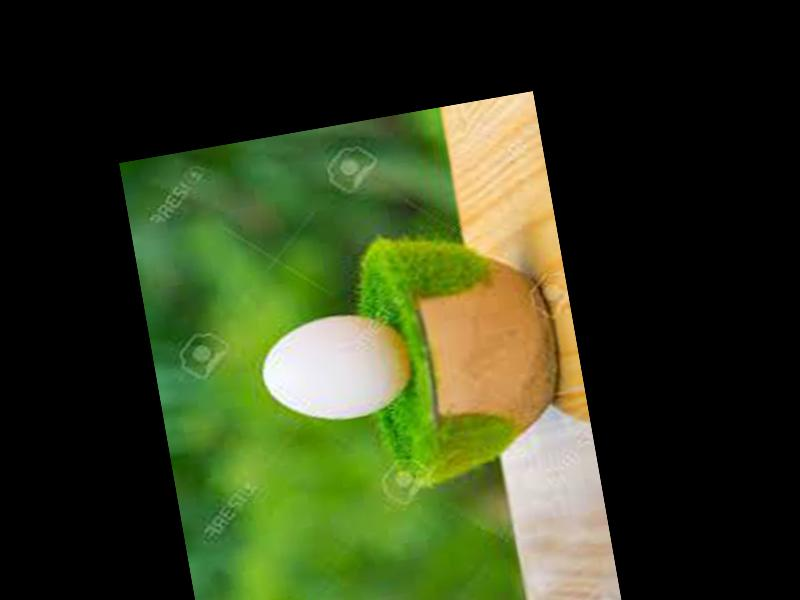Eggs: (258, 306, 418, 433)
